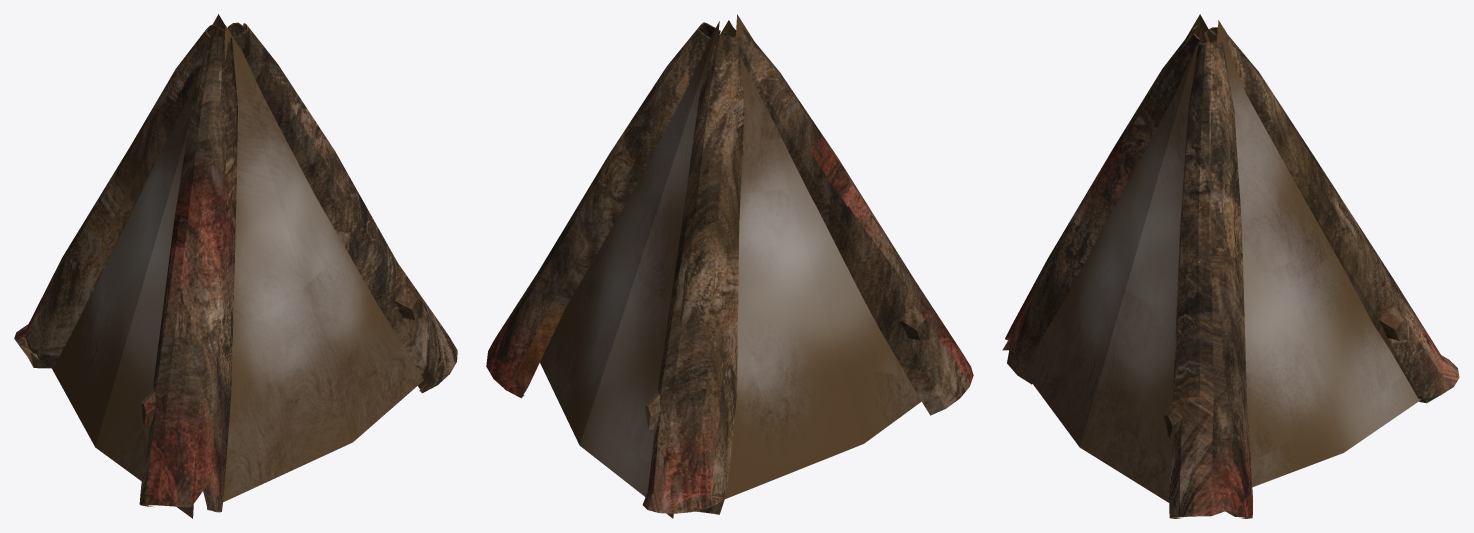
Rendered from geteld.glb.
The picture shows the model from 3 angles, left to right: view 1: azimuth 30°, elevation 25°; view 2: azimuth 150°, elevation 25°; view 3: azimuth 270°, elevation 25°; orthographic projection.
Visible parts, largest first — view 1: lp; view 2: lp; view 3: lp.
Part boxes in pixels (bbox=[...]): lp: bbox=[14, 14, 457, 518]; lp: bbox=[486, 14, 973, 518]; lp: bbox=[1002, 14, 1459, 518].
Size of the model in its own units: 2.36 by 2.37 by 2.38.
1 material, 1 textured.
